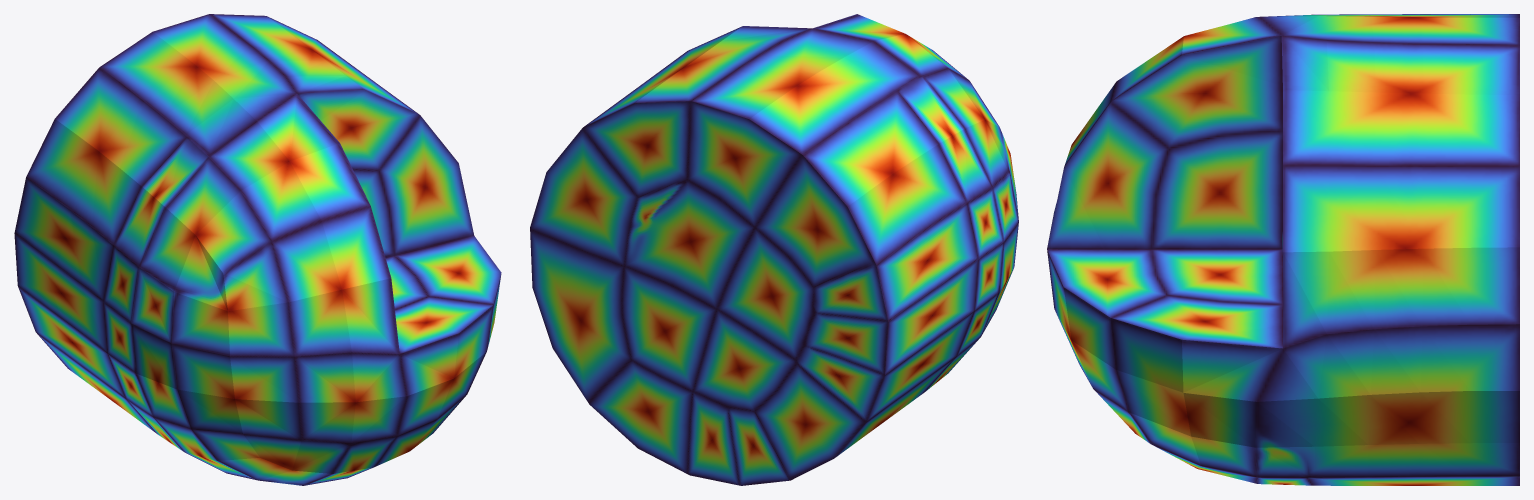
File: gen1.glb
The picture shows the model from 3 angles, left to right: view 1: azimuth 30°, elevation 25°; view 2: azimuth 150°, elevation 25°; view 3: azimuth 270°, elevation 25°; orthographic projection. The views are drawn at different scales.
Parts seen in each view (by area): view 1: Node; view 2: Node; view 3: Node.
Boxes of the visible parts, x1,y1,x2,y2 form: Node: (14,14,501,485); Node: (530,14,1018,485); Node: (1047,14,1519,485).
Size of the model in its own units: 9.98 by 9.96 by 9.98.
Materials: 1 (1 with a texture image).
